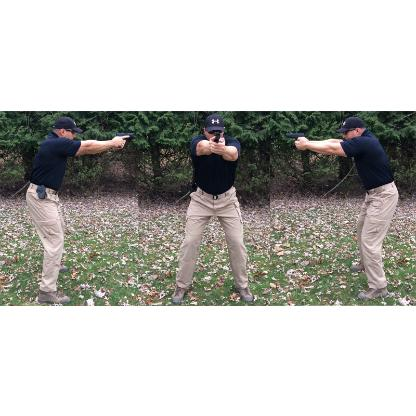gun: (285, 132, 307, 148), (115, 130, 134, 148), (211, 130, 221, 150)
